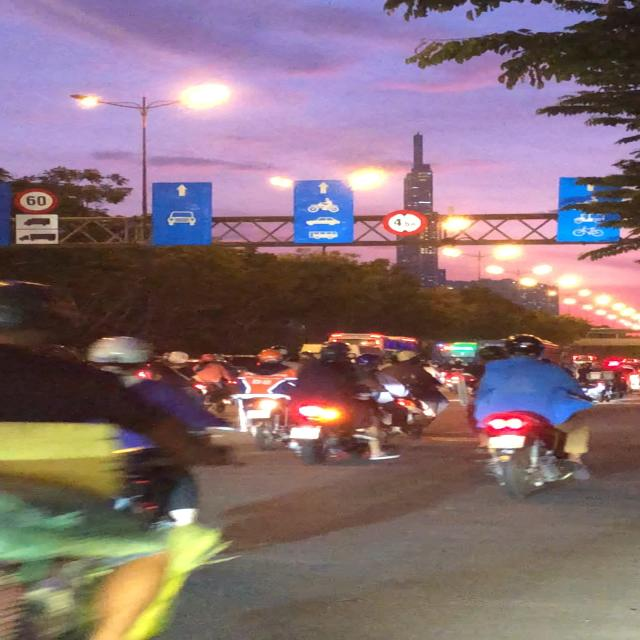Bien bao han che chieu cao: (381, 208, 431, 240)
Bien bao toc do toi da cho phep: (12, 185, 66, 214)
